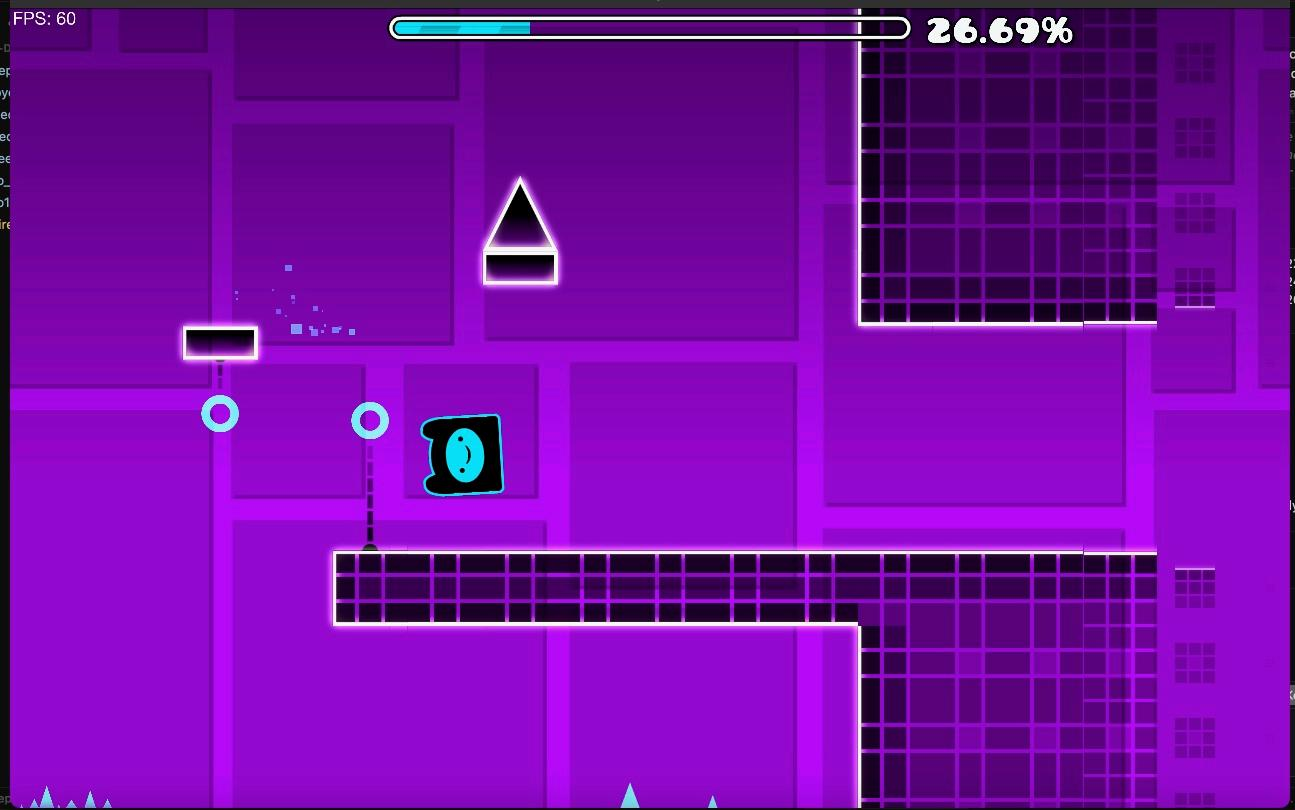block: (857, 551, 1158, 810), (331, 553, 855, 626)
platform: (183, 326, 258, 361)
player: (421, 414, 503, 496)
spike: (17, 780, 856, 806), (483, 177, 557, 284)
